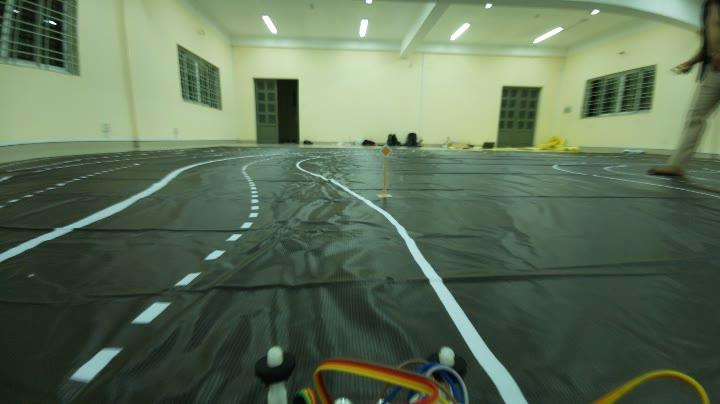priority: (376, 142, 394, 160)
